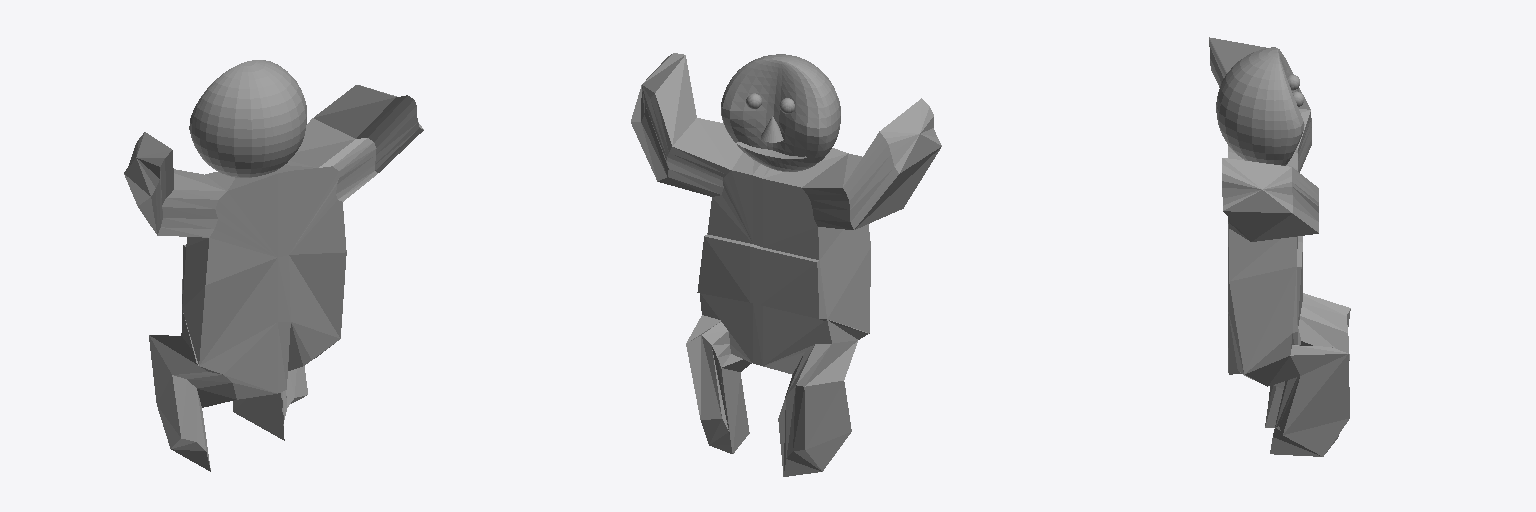
Rendered from manjump_000006.obj.
3 views of the same model, side by side, from view 1: azimuth 30°, elevation 25°; view 2: azimuth 150°, elevation 25°; view 3: azimuth 270°, elevation 25° (orthographic).
Visible parts, largest first — view 1: Cube; view 2: Cube; view 3: Cube.
Boxes of the visible parts, x1=… form: Cube: x1=124, y1=60, x2=423, y2=471; Cube: x1=631, y1=53, x2=941, y2=476; Cube: x1=1209, y1=37, x2=1350, y2=456.
Size of the model in its own units: 86.75 by 117 by 38.18.